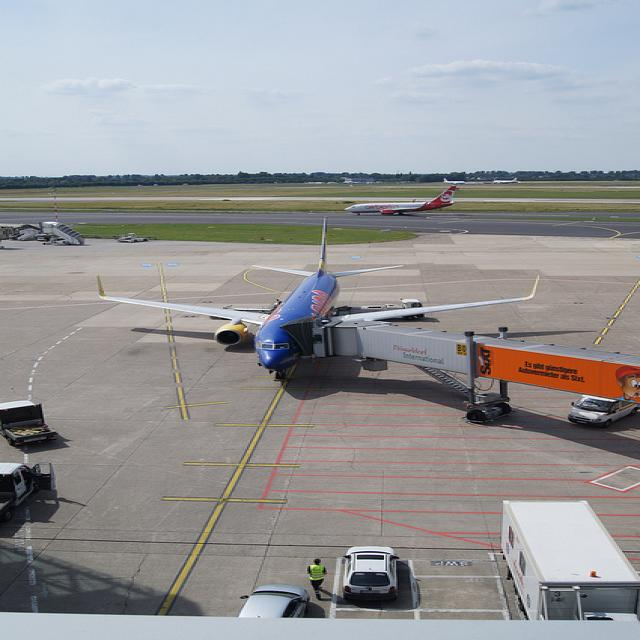Vehicle: (500, 501, 640, 622), (340, 546, 401, 604), (0, 461, 55, 518), (0, 399, 59, 446), (237, 584, 311, 618), (567, 394, 639, 428)
